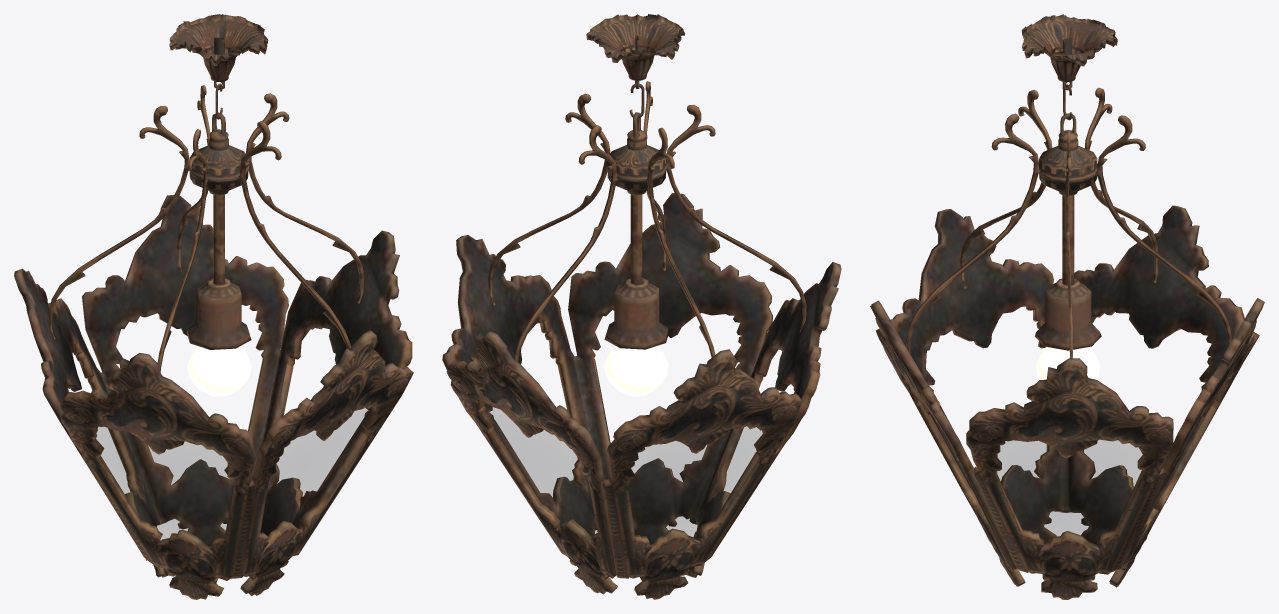
The model's file is light-lantern.glb.
3 views of the same model, side by side, from view 1: azimuth 30°, elevation 25°; view 2: azimuth 150°, elevation 25°; view 3: azimuth 270°, elevation 25° (orthographic).
Visible parts, largest first — view 1: lantern_chandelier_01; view 2: lantern_chandelier_01; view 3: lantern_chandelier_01.
Part boxes in pixels (<box>): lantern_chandelier_01: <box>14,14,413,599</box>; lantern_chandelier_01: <box>442,14,841,599</box>; lantern_chandelier_01: <box>870,14,1264,599</box>.
Size of the model in its own units: 0.5792 by 0.8776 by 0.5746.
Materials: 3 (2 with a texture image).
